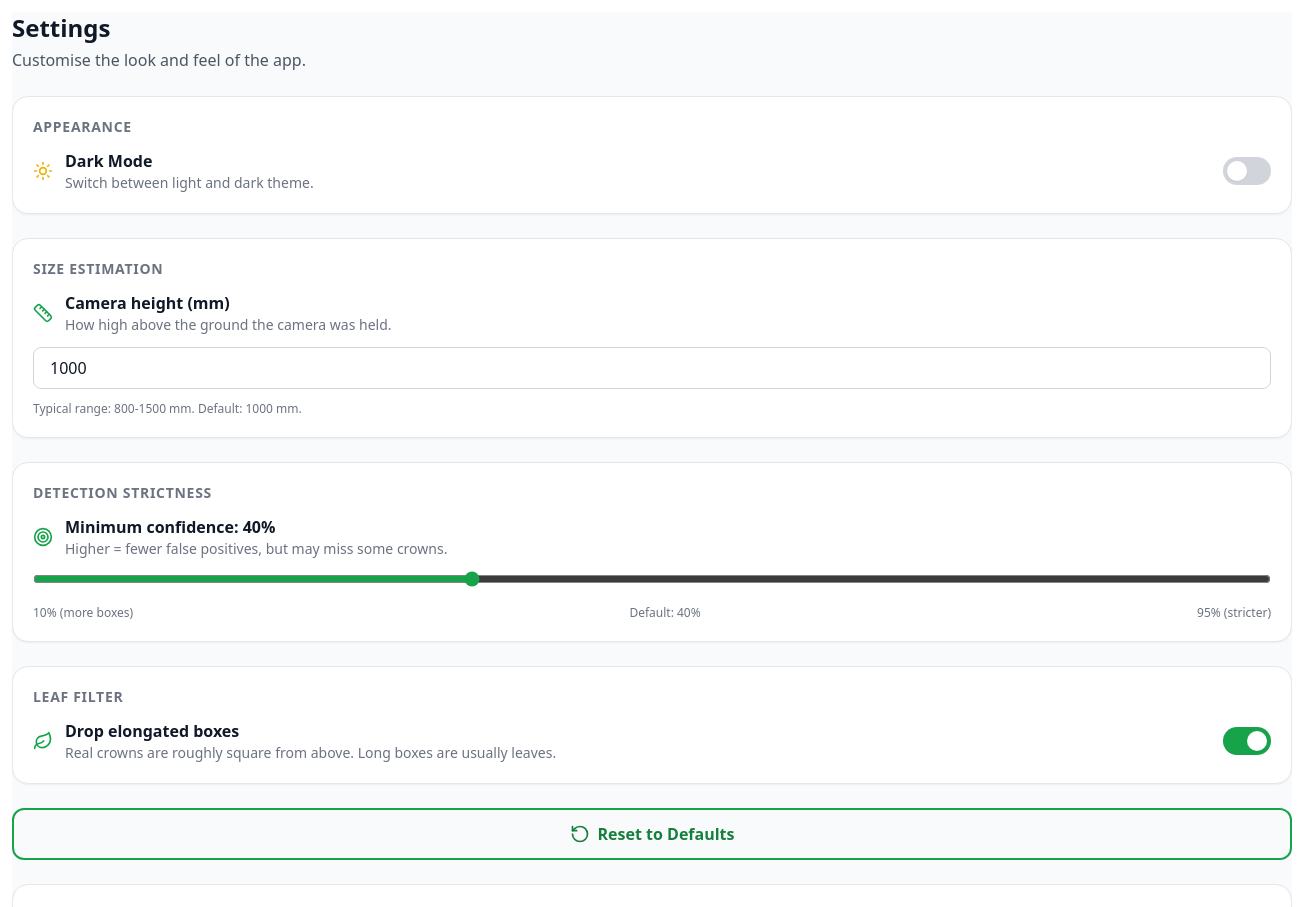
Test: Settings camera-height input › reverts an out-of-range value to the saved height on blur
This screenshot has width=1304, height=907.
Step 1. Replace the text in the number field labelled "Camera height (mm)" with "99" → (652, 368), box [33,347,1271,389]
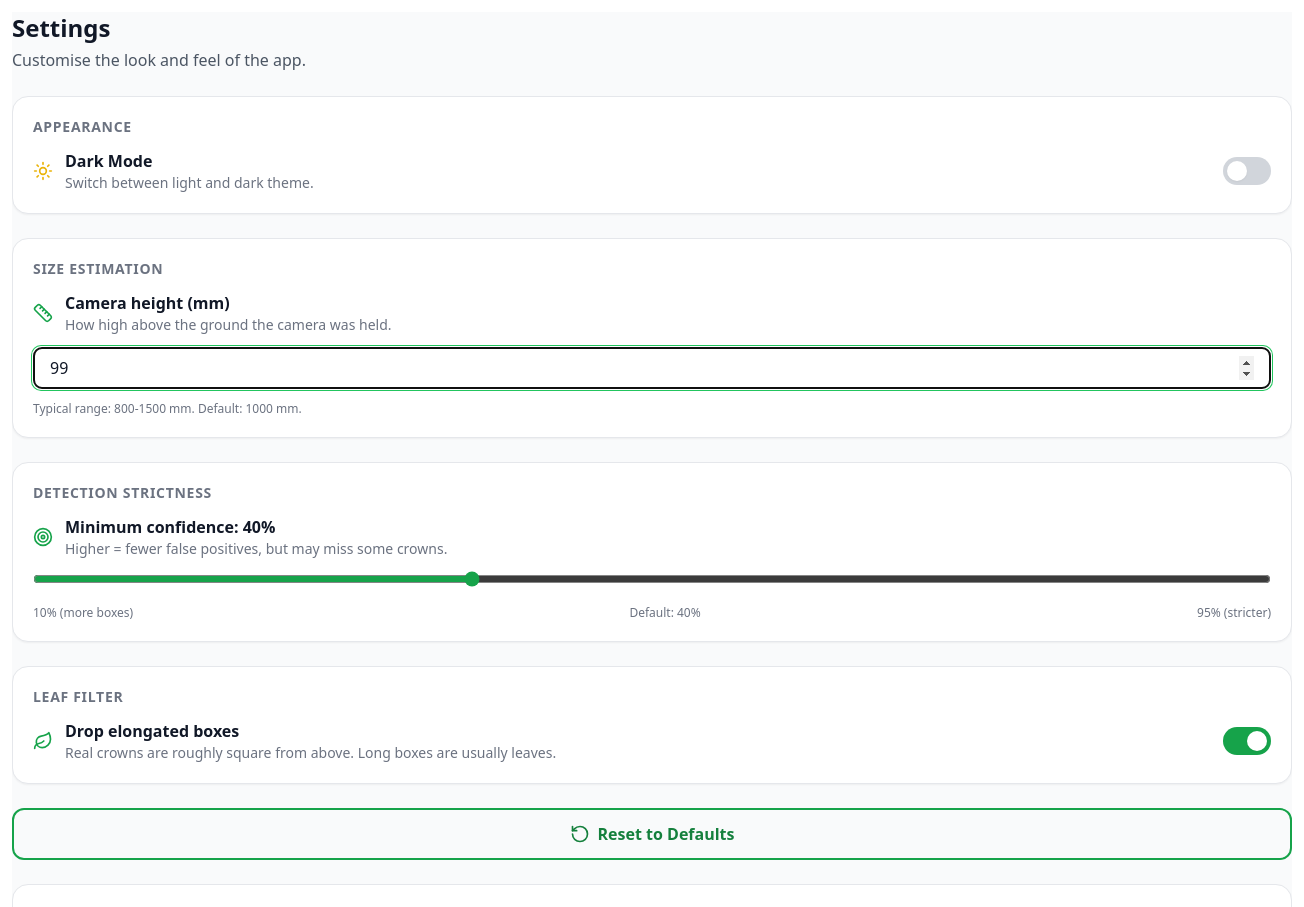
Step 2. Press Tab
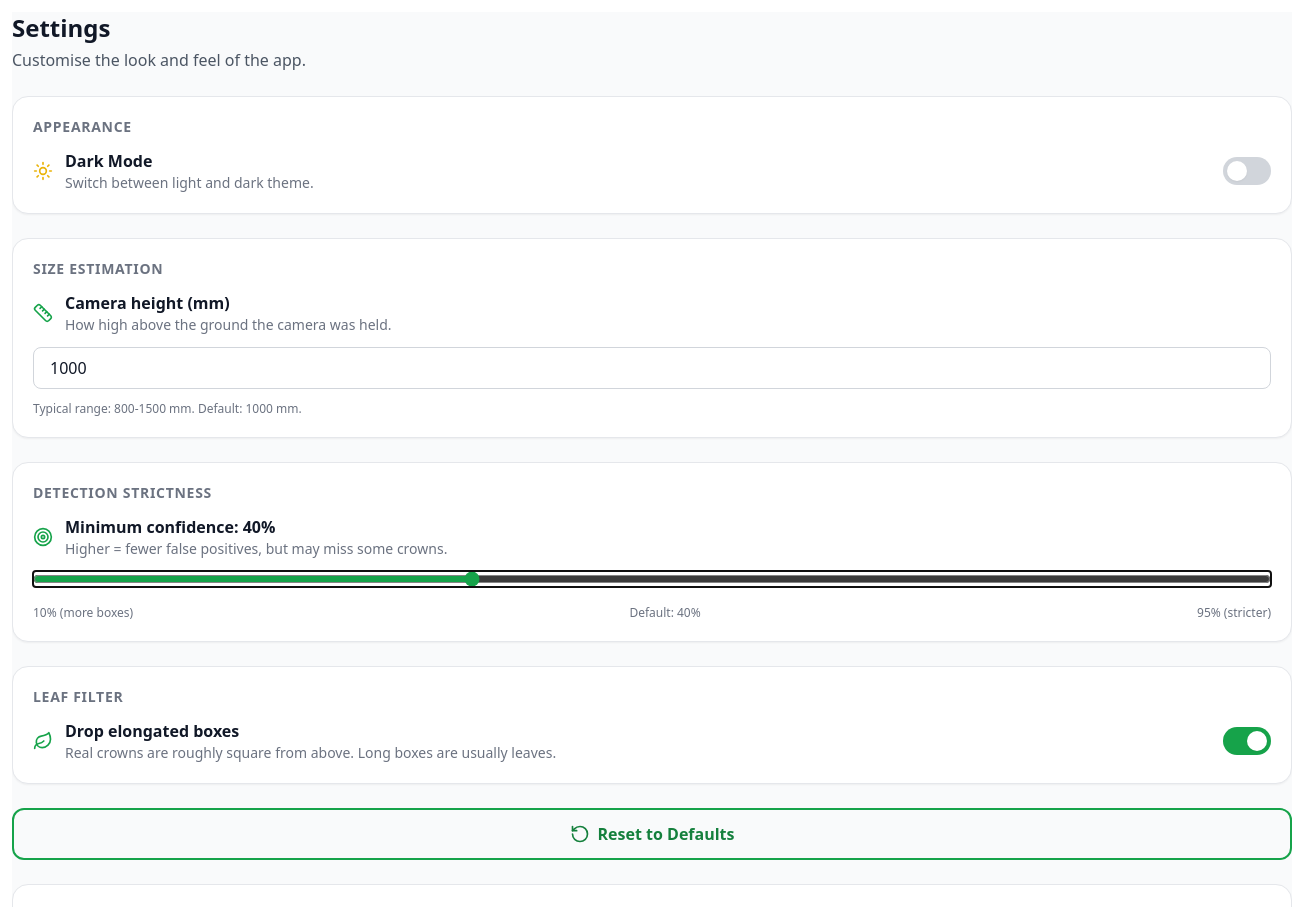
Expected: the number field labelled "Camera height (mm)" holds "1000", [33,347,1271,389]
